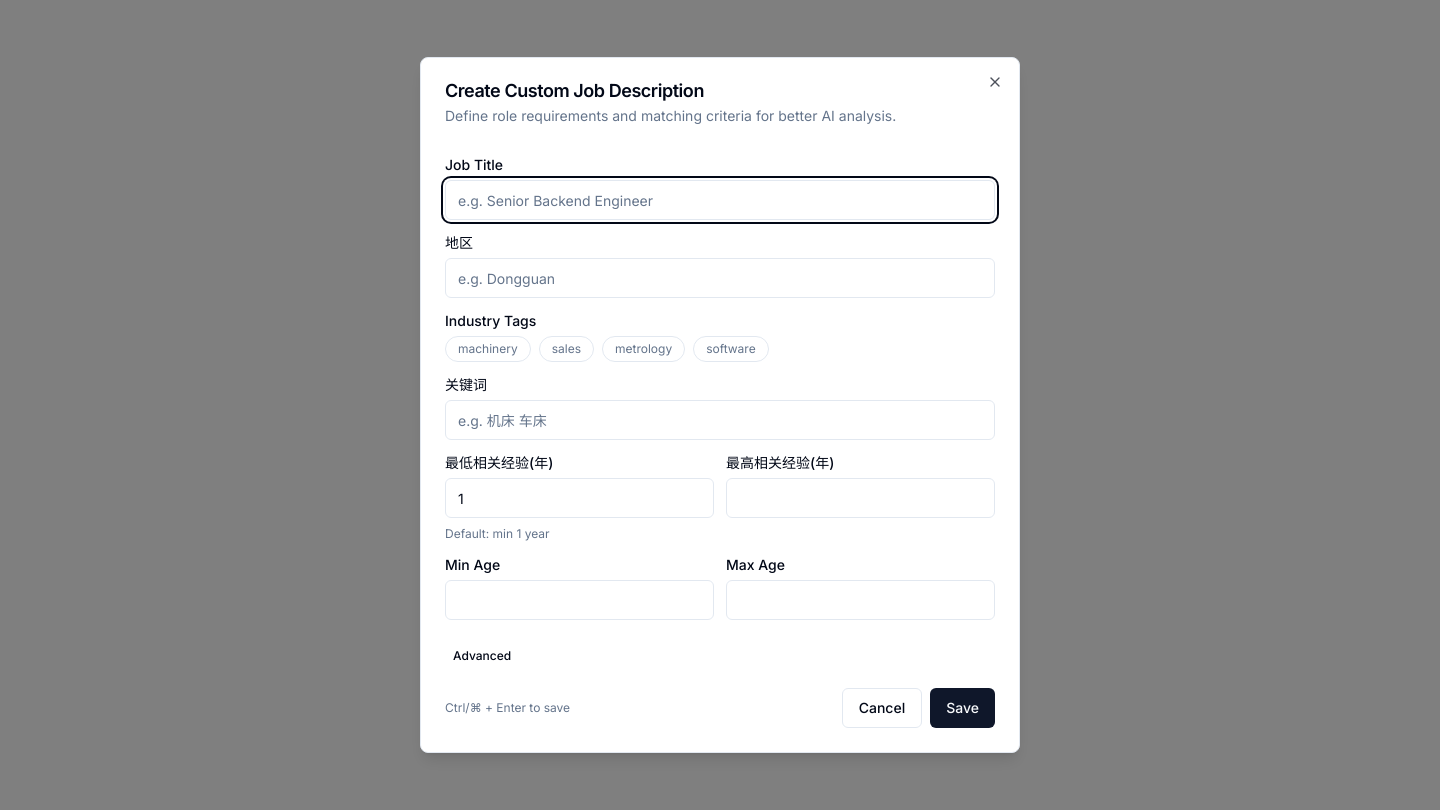
Test: JobDescriptionEditor › does not save when title is empty and shows inline error
Click the button "Save" at coordinates (963, 708), box [930,688,995,728]
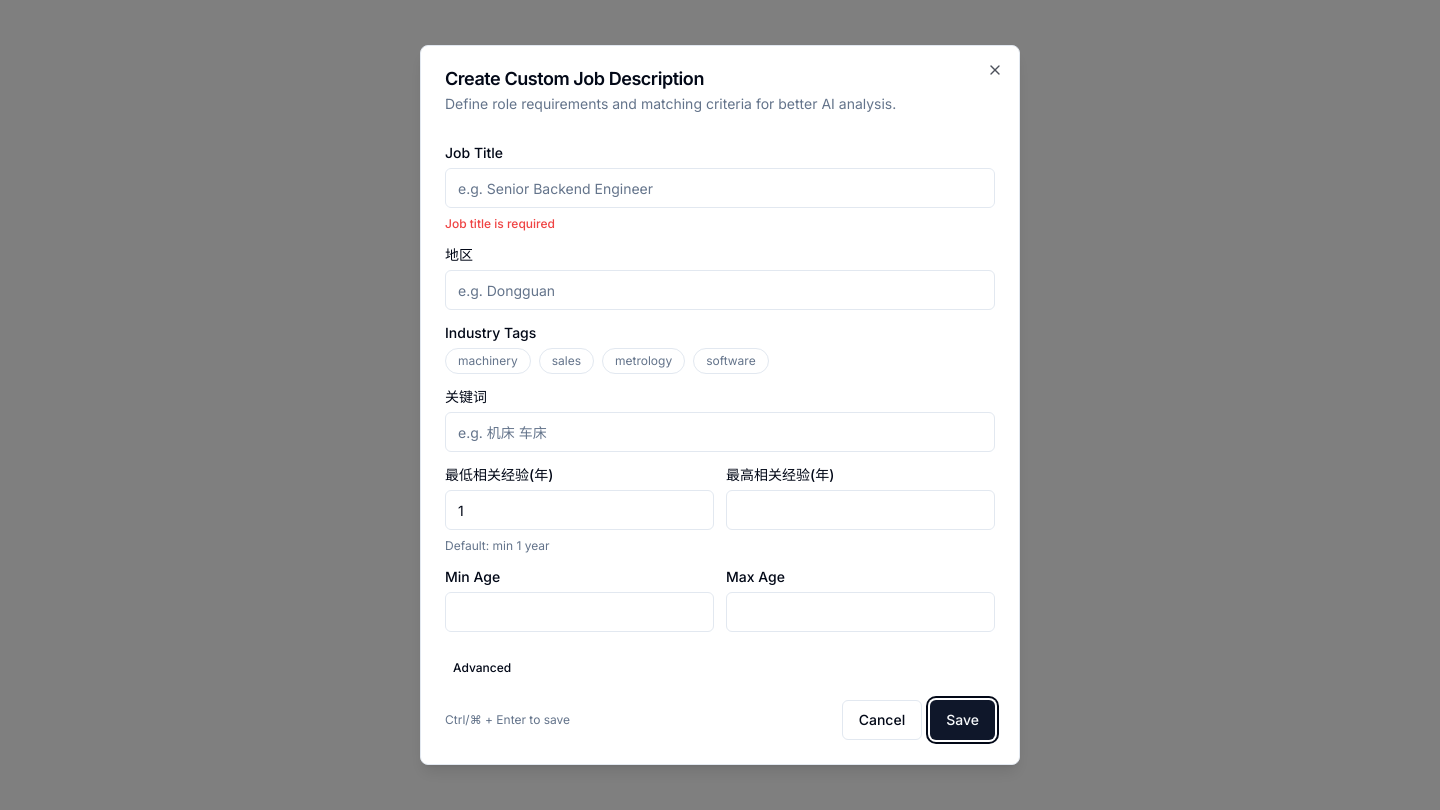
Check: the message reads "Job title is required", box [445,216,555,231]
